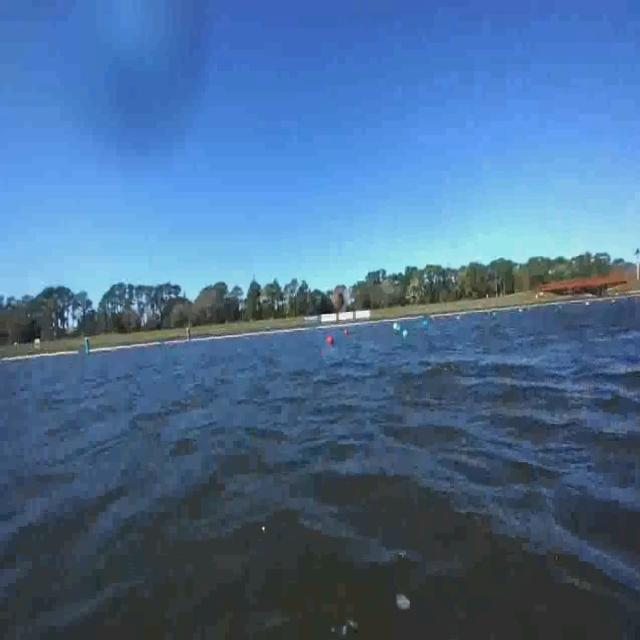red-buoy: (328, 336, 333, 346)
